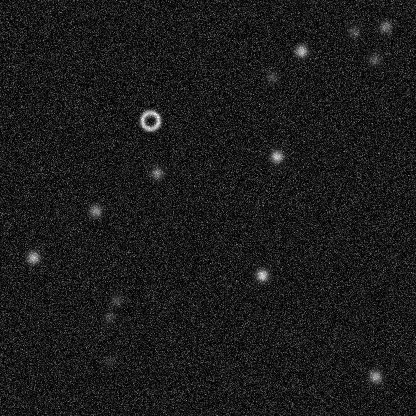Ring: (138, 108, 162, 132)
Spot: (87, 202, 103, 218), (100, 309, 116, 325), (367, 368, 383, 384), (108, 292, 124, 308), (345, 23, 361, 39), (366, 51, 382, 67), (148, 165, 164, 181), (264, 68, 280, 84), (254, 267, 270, 283), (100, 353, 116, 369), (293, 43, 309, 59), (377, 18, 393, 34), (268, 148, 284, 164), (25, 249, 41, 265)
